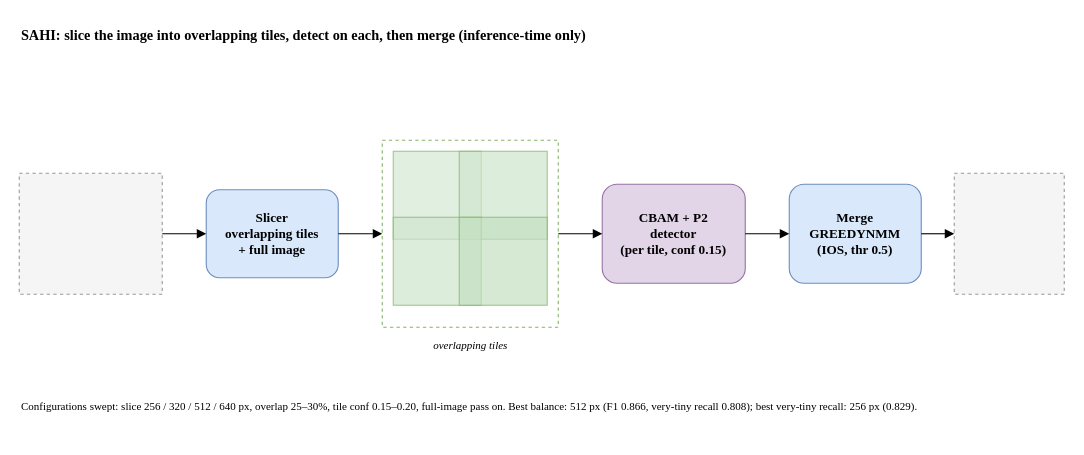
Image size: 1084x455. Some labels were removed from this diagram. Here are the shapes that lost their labels. From the top down, the centre of each, then its label:
At [90,233]: "PASTE: full image".
At [1008,233]: "PASTE: merged detections".
